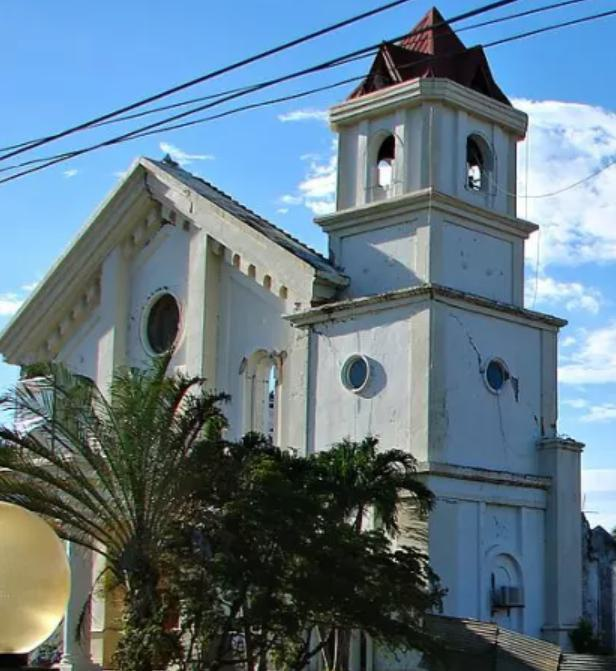crack: (446, 320, 487, 363), (508, 374, 525, 407)
